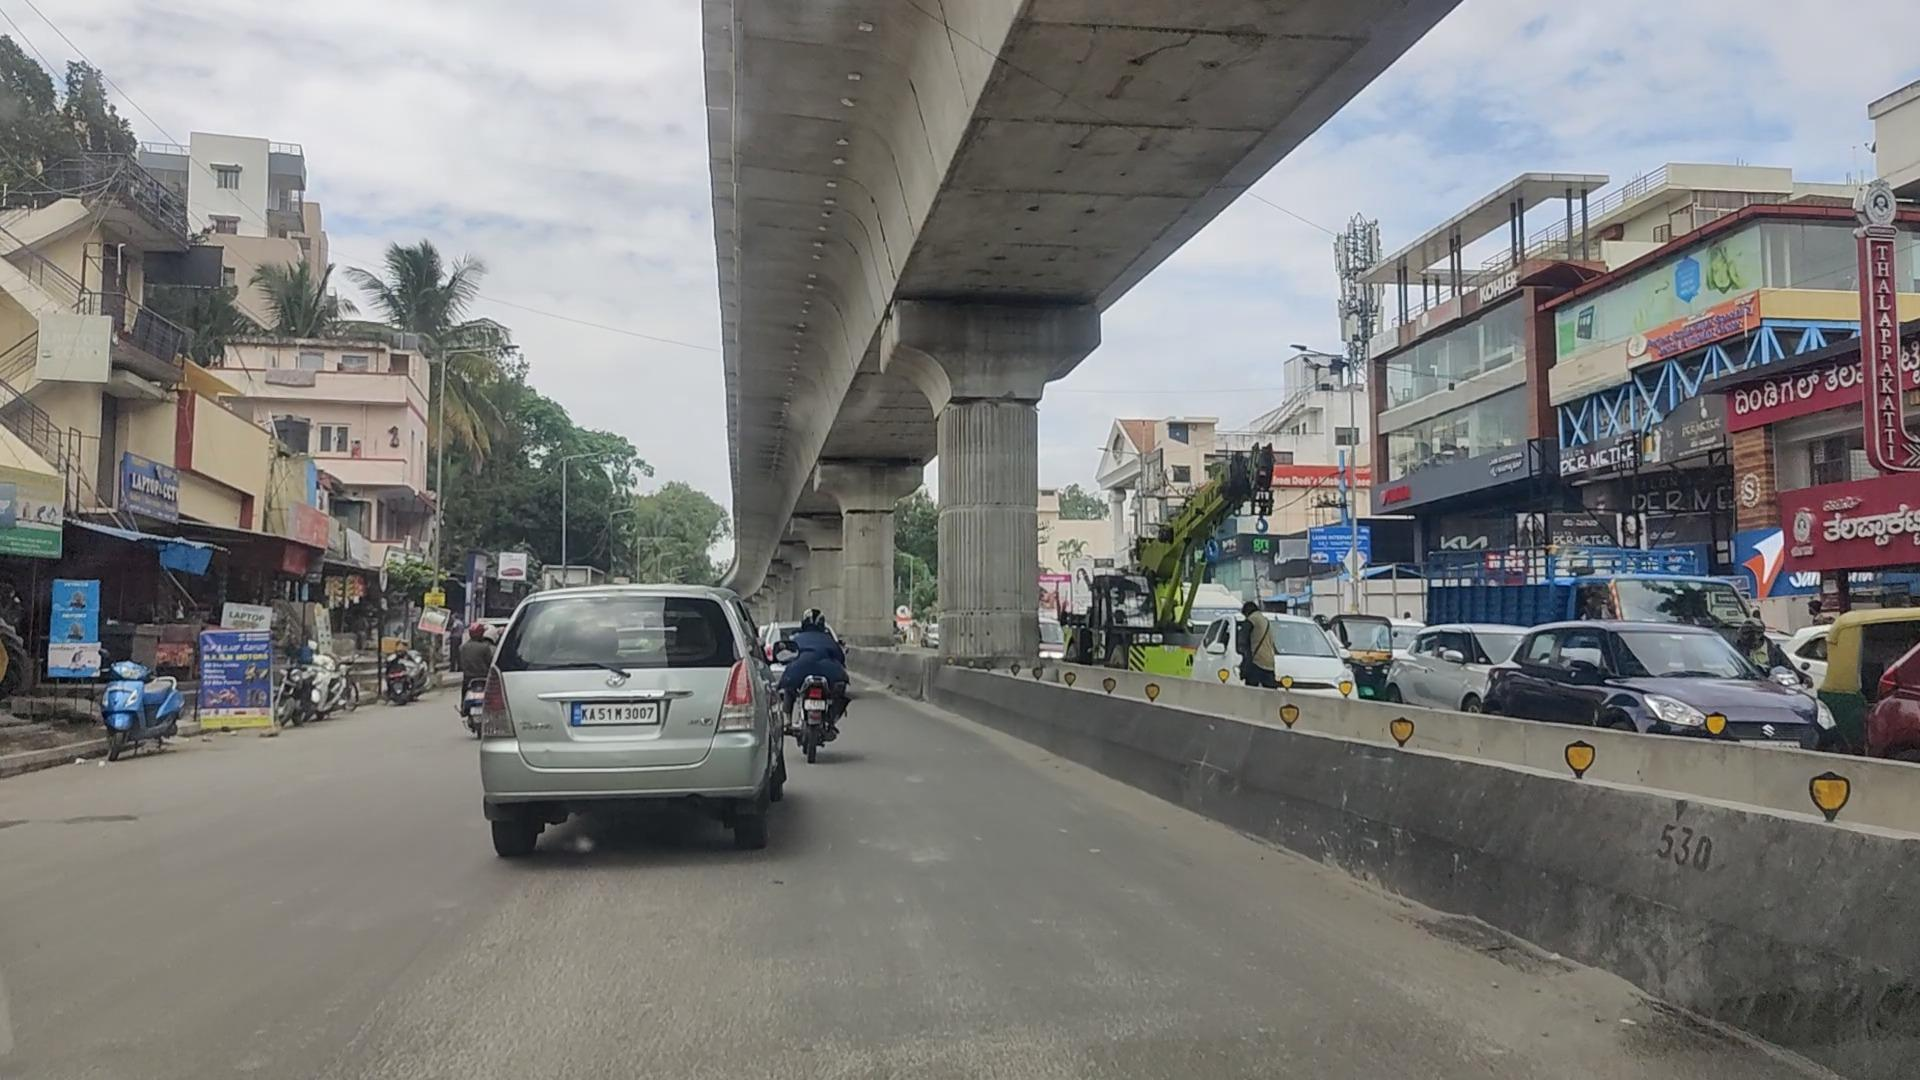LMV: (480, 571, 774, 873), (782, 603, 864, 782)
